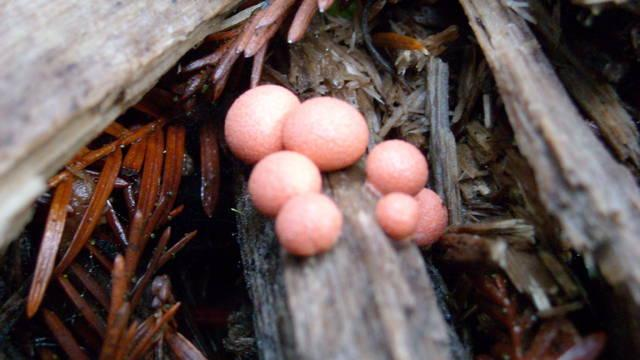Non-edible Mushroom: (221, 81, 449, 257), (281, 94, 369, 170), (222, 82, 300, 162), (247, 149, 322, 215), (274, 191, 343, 256), (364, 137, 429, 194), (409, 187, 448, 246), (374, 190, 419, 239)
